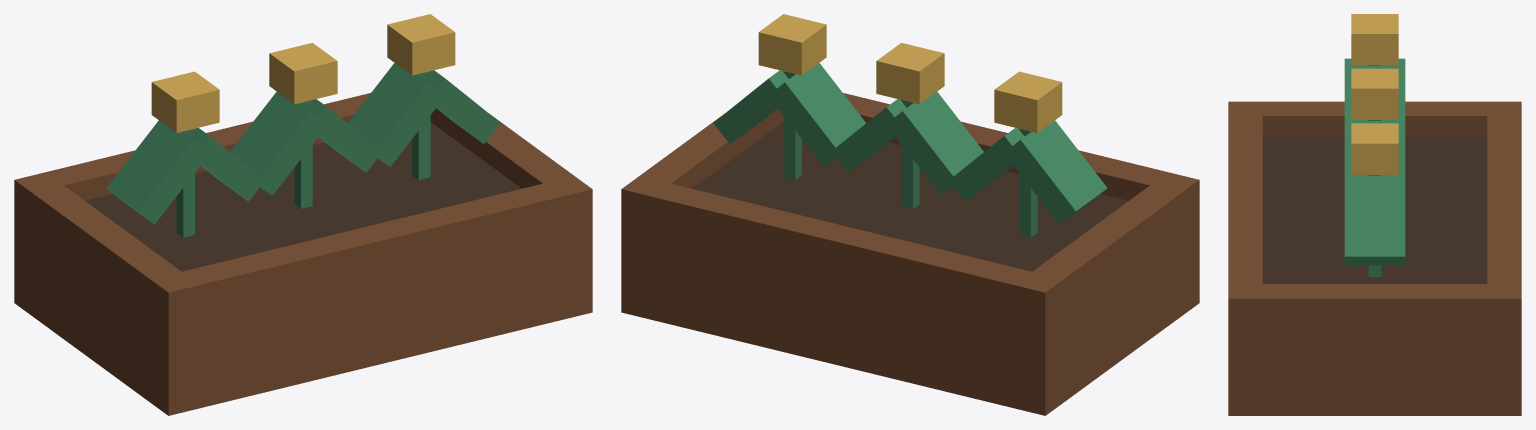
File: garden_planter.glb
3 renders of one model, left to right at view 1: azimuth 30°, elevation 25°; view 2: azimuth 150°, elevation 25°; view 3: azimuth 270°, elevation 25°, orthographic. The views are drawn at different scales.
Visible parts, largest first — view 1: garden_planter; view 2: garden_planter; view 3: garden_planter.
Part boxes in pixels (x1,y1,x2,y2): garden_planter: [14, 14, 592, 415]; garden_planter: [621, 14, 1199, 415]; garden_planter: [1228, 14, 1521, 415].
Bounding box in the file's own units: 5.4 × 3.05 × 3.4.
